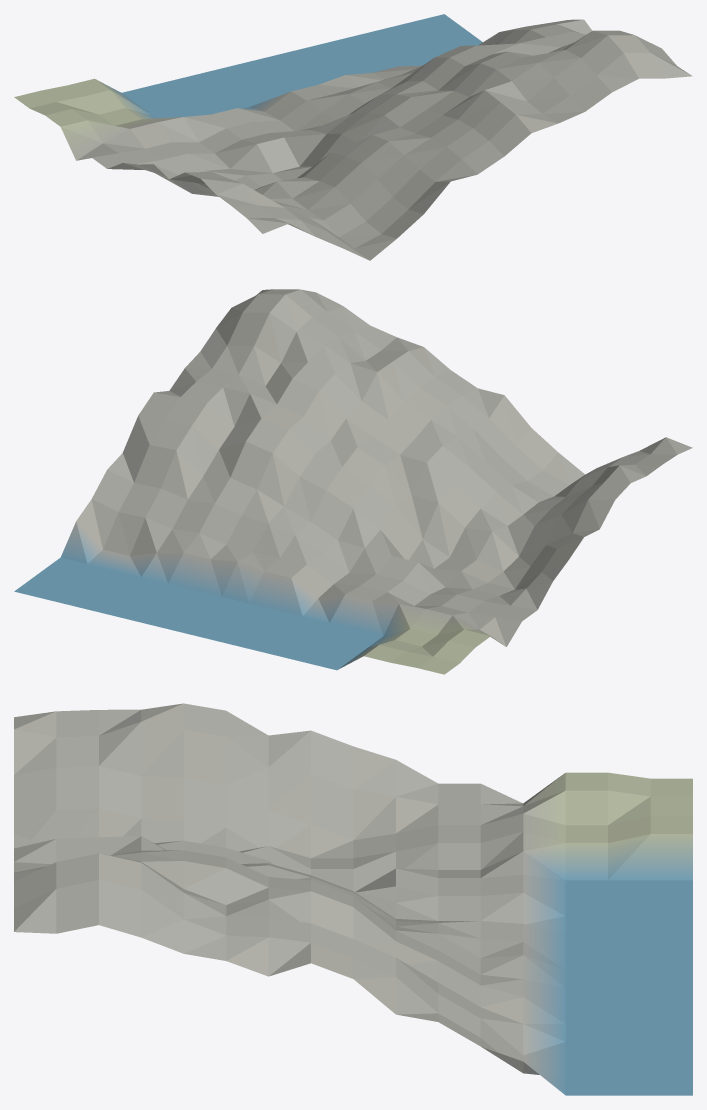
The picture shows the model from 3 angles, top to bottom: view 1: azimuth 30°, elevation 25°; view 2: azimuth 150°, elevation 25°; view 3: azimuth 270°, elevation 25°; orthographic projection. The views are drawn at different scales.
Size of the model in its own units: 32 by 10.73 by 32.
